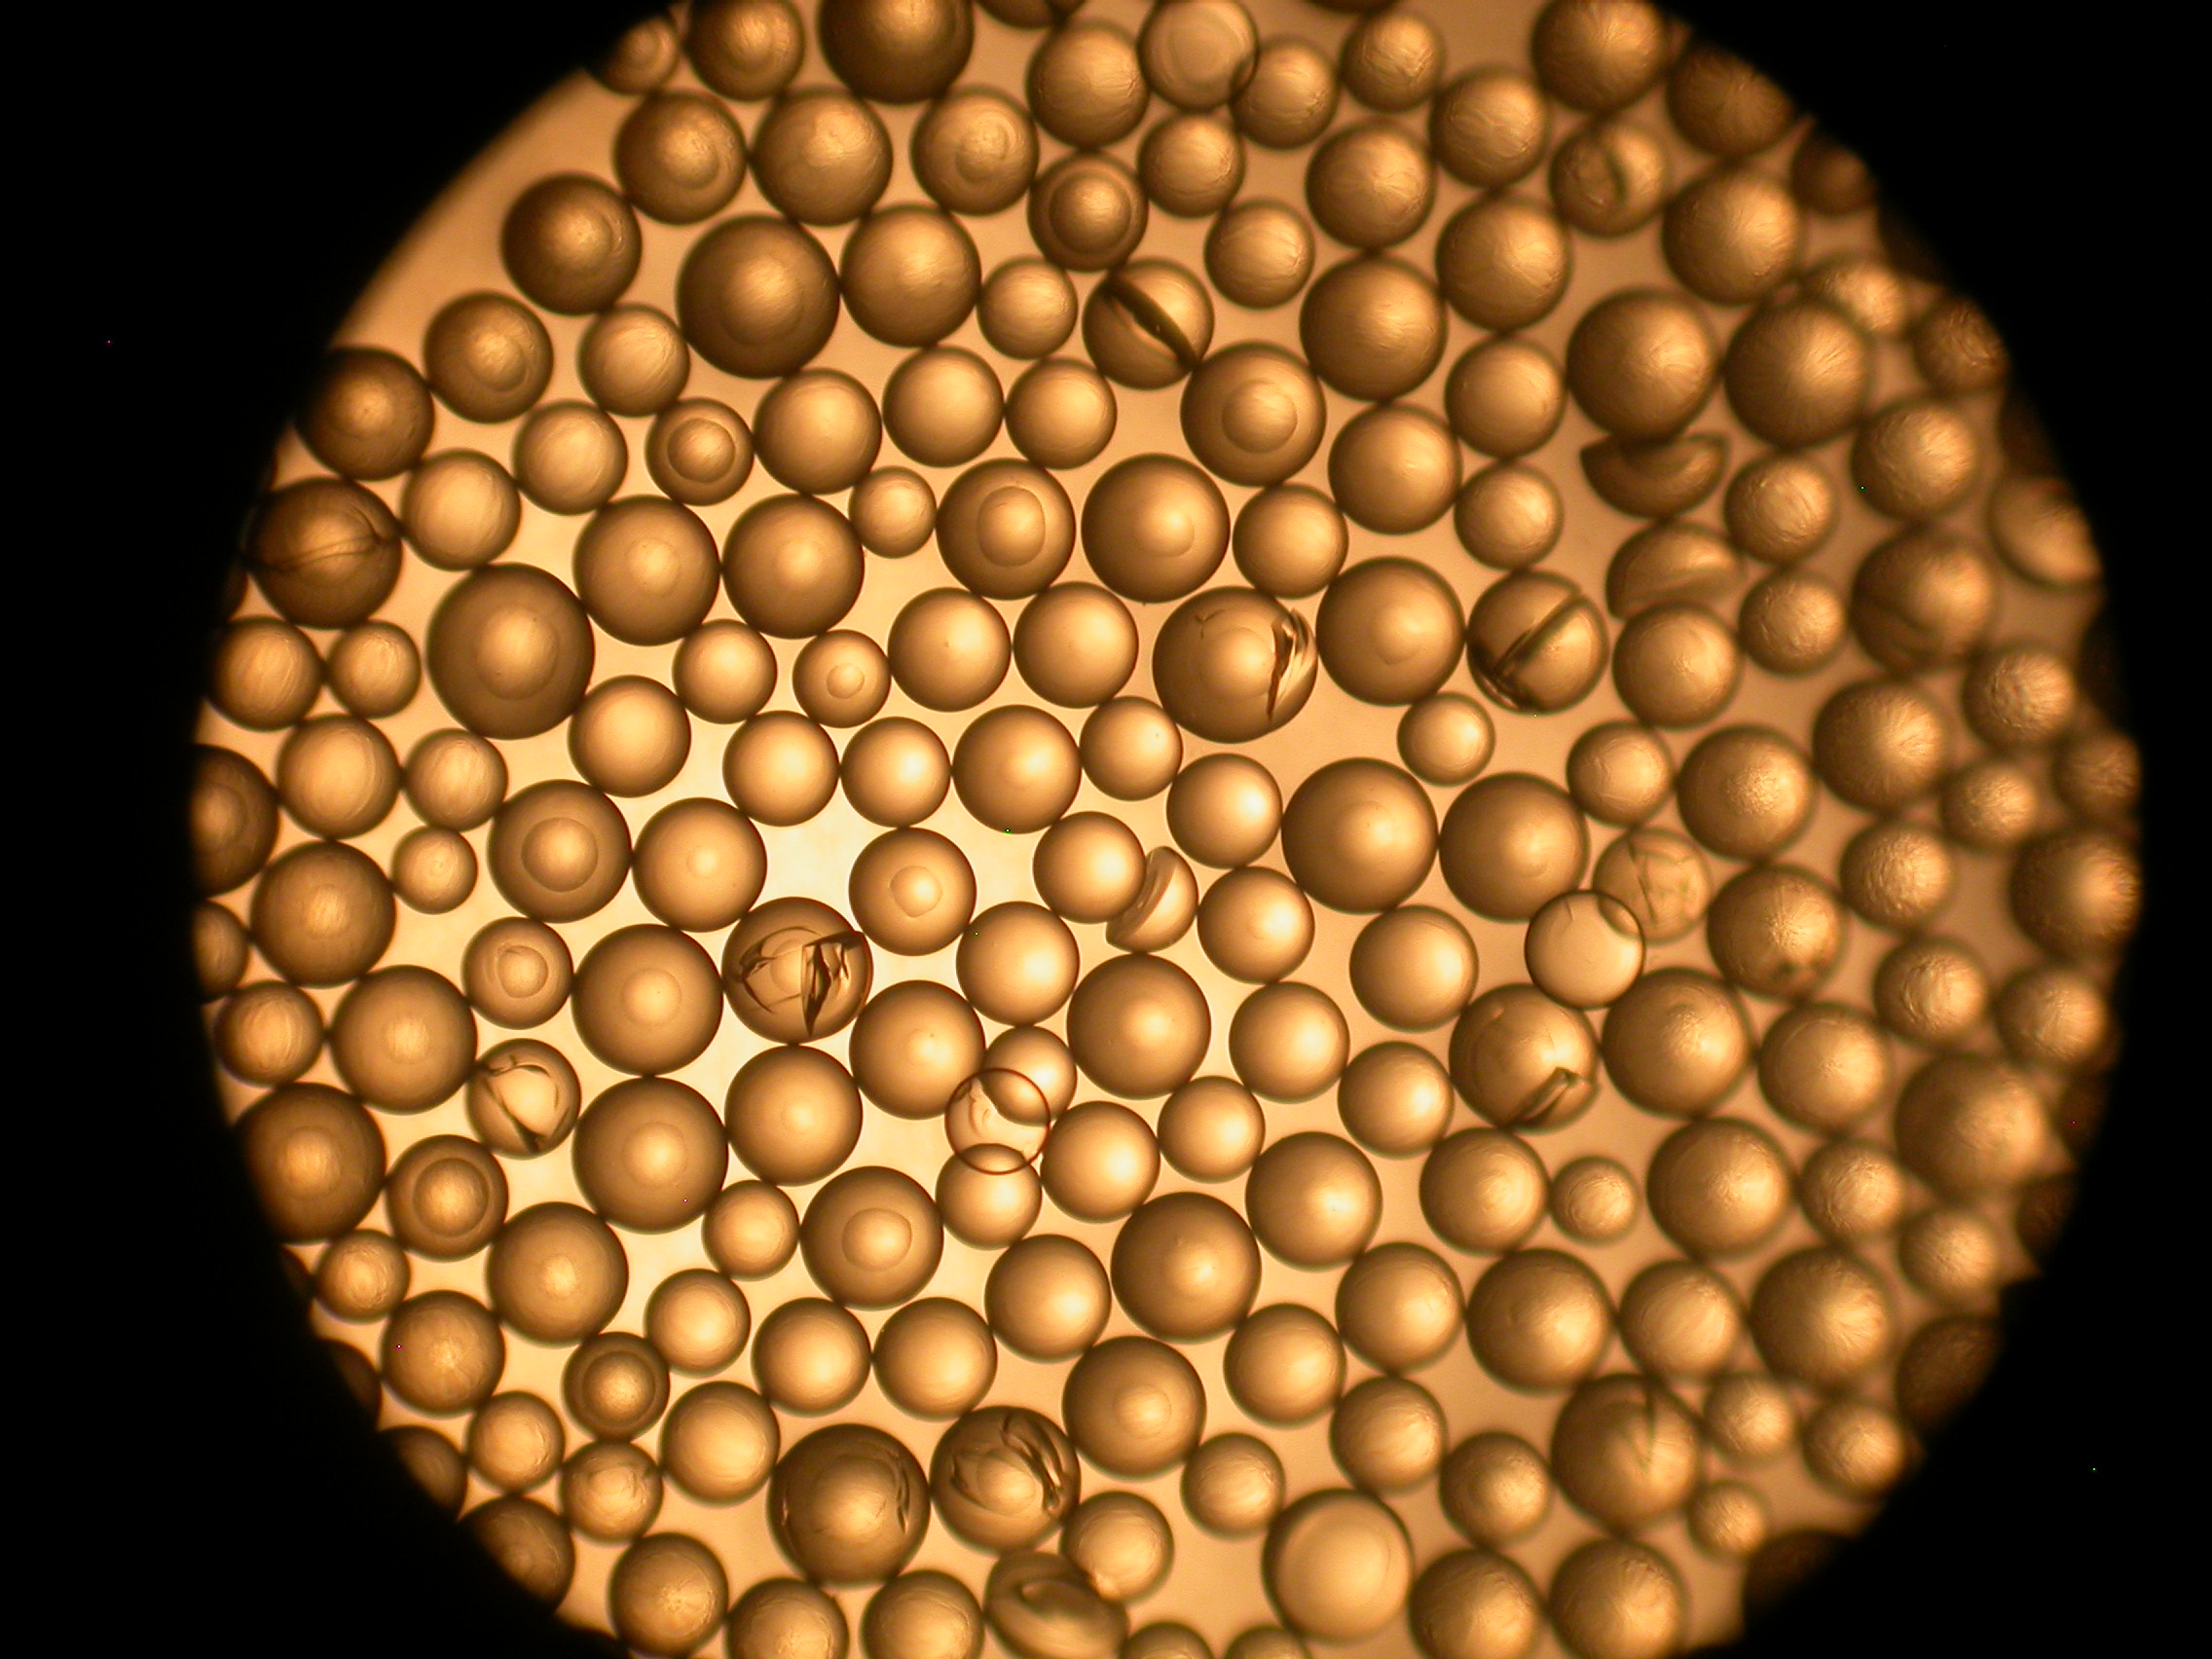destroyed_resin: (766, 1422, 930, 1588), (1153, 586, 1318, 746), (246, 476, 402, 627), (1554, 1375, 1702, 1534), (930, 1405, 1083, 1554), (1851, 526, 2005, 676), (1447, 983, 1602, 1131), (721, 897, 873, 1046), (1467, 572, 1608, 718), (1984, 462, 2114, 594), (1083, 260, 1212, 389), (982, 1553, 1132, 1659), (465, 1039, 582, 1161), (1592, 828, 1714, 943), (1606, 521, 1743, 617), (1580, 434, 1728, 516), (1062, 1492, 1174, 1600), (1104, 845, 1198, 953), (1804, 253, 1912, 340)
full_resin: (425, 563, 597, 742), (674, 214, 841, 380), (223, 1084, 387, 1246), (571, 1077, 730, 1234), (1280, 758, 1440, 913), (1895, 1053, 2057, 1204), (570, 924, 725, 1077), (1261, 1492, 1414, 1643), (1111, 1192, 1263, 1345), (1440, 772, 1592, 925), (1080, 453, 1231, 606), (571, 495, 723, 648), (1564, 289, 1721, 437), (1602, 969, 1754, 1121), (1317, 556, 1467, 709), (1723, 301, 1872, 453), (1465, 1249, 1616, 1398), (1299, 254, 1449, 403), (329, 965, 477, 1115), (251, 842, 399, 990), (1061, 1337, 1211, 1483), (1749, 1249, 1902, 1392), (498, 171, 644, 319), (1066, 955, 1212, 1101), (799, 1166, 946, 1312), (723, 493, 867, 641), (486, 1202, 631, 1349), (749, 85, 895, 230), (1179, 343, 1325, 486), (840, 204, 982, 350), (1648, 1119, 1796, 1260), (488, 779, 632, 922), (935, 458, 1078, 601), (1662, 164, 1806, 305), (723, 1044, 864, 1187), (848, 979, 988, 1122), (1245, 1131, 1385, 1272), (1811, 676, 1954, 814), (1676, 725, 1820, 861), (631, 796, 770, 934), (296, 345, 435, 483), (610, 89, 747, 228), (1759, 1002, 1898, 1138), (1435, 195, 1573, 331), (2010, 824, 2149, 958), (1709, 866, 1848, 1000), (1327, 403, 1465, 537), (1669, 31, 1810, 160), (1334, 1241, 1467, 1377), (421, 293, 556, 425), (1303, 122, 1439, 253), (909, 85, 1042, 218), (1547, 1539, 1691, 1659), (174, 742, 282, 901), (953, 704, 1083, 835), (848, 828, 979, 958), (812, 2, 977, 105), (1420, 1129, 1550, 1258), (1348, 906, 1480, 1033), (383, 1133, 510, 1265), (752, 368, 885, 495), (1850, 396, 1984, 521), (378, 1291, 507, 1420), (986, 1234, 1113, 1364), (1026, 19, 1153, 150), (1014, 582, 1141, 709), (871, 1297, 1000, 1422), (1223, 1303, 1350, 1429), (277, 714, 402, 842), (1613, 603, 1742, 727), (1618, 1260, 1747, 1384), (887, 587, 1012, 713), (1529, 2, 1669, 113), (956, 901, 1082, 1025), (568, 674, 693, 798), (1026, 152, 1150, 275), (658, 1380, 780, 1506), (1409, 1549, 1547, 1659), (1230, 981, 1352, 1105), (883, 345, 1005, 469), (1038, 1101, 1160, 1223), (1446, 336, 1566, 460), (1329, 1375, 1449, 1499), (608, 1534, 728, 1656), (456, 1495, 577, 1617), (402, 450, 523, 572), (1550, 118, 1672, 237), (1430, 68, 1550, 186), (1167, 753, 1285, 871), (752, 1298, 871, 1417), (1439, 1432, 1555, 1553), (207, 615, 324, 735), (1338, 1042, 1456, 1159), (1231, 484, 1350, 601), (723, 711, 840, 829), (510, 399, 629, 516), (1198, 868, 1315, 985), (575, 301, 691, 418), (1961, 643, 2081, 756), (1872, 938, 1993, 1051), (1726, 451, 1839, 566), (840, 716, 953, 829), (1228, 37, 1339, 152), (1003, 359, 1118, 471), (462, 917, 573, 1032), (1841, 823, 1959, 931), (1033, 812, 1146, 924), (1797, 1140, 1912, 1249), (1996, 965, 2114, 1072), (1204, 200, 1315, 312), (1453, 462, 1564, 572), (644, 397, 754, 509), (1803, 1398, 1916, 1506), (683, 2, 805, 101), (1738, 570, 1850, 678), (1179, 1432, 1287, 1544), (1157, 1075, 1268, 1183), (1137, 110, 1245, 220), (934, 1141, 1043, 1249), (561, 1331, 671, 1439), (1912, 289, 2019, 401), (216, 981, 324, 1089), (1566, 721, 1674, 828), (1339, 9, 1447, 115), (644, 1267, 751, 1375), (672, 619, 779, 725), (401, 728, 510, 831), (1898, 1204, 2005, 1309), (975, 256, 1080, 362), (1078, 695, 1183, 802), (860, 1572, 986, 1659), (559, 1443, 664, 1546), (465, 1391, 566, 1495), (725, 1577, 852, 1659), (1942, 756, 2043, 857), (981, 1026, 1080, 1127), (792, 627, 892, 728), (700, 1182, 799, 1281), (326, 620, 423, 720), (1702, 1373, 1804, 1466), (314, 1229, 411, 1324), (1397, 692, 1496, 786), (583, 2, 683, 96), (2054, 727, 2148, 823), (1548, 1157, 1646, 1246), (848, 464, 937, 559), (390, 828, 479, 915), (1688, 1480, 1777, 1565)
